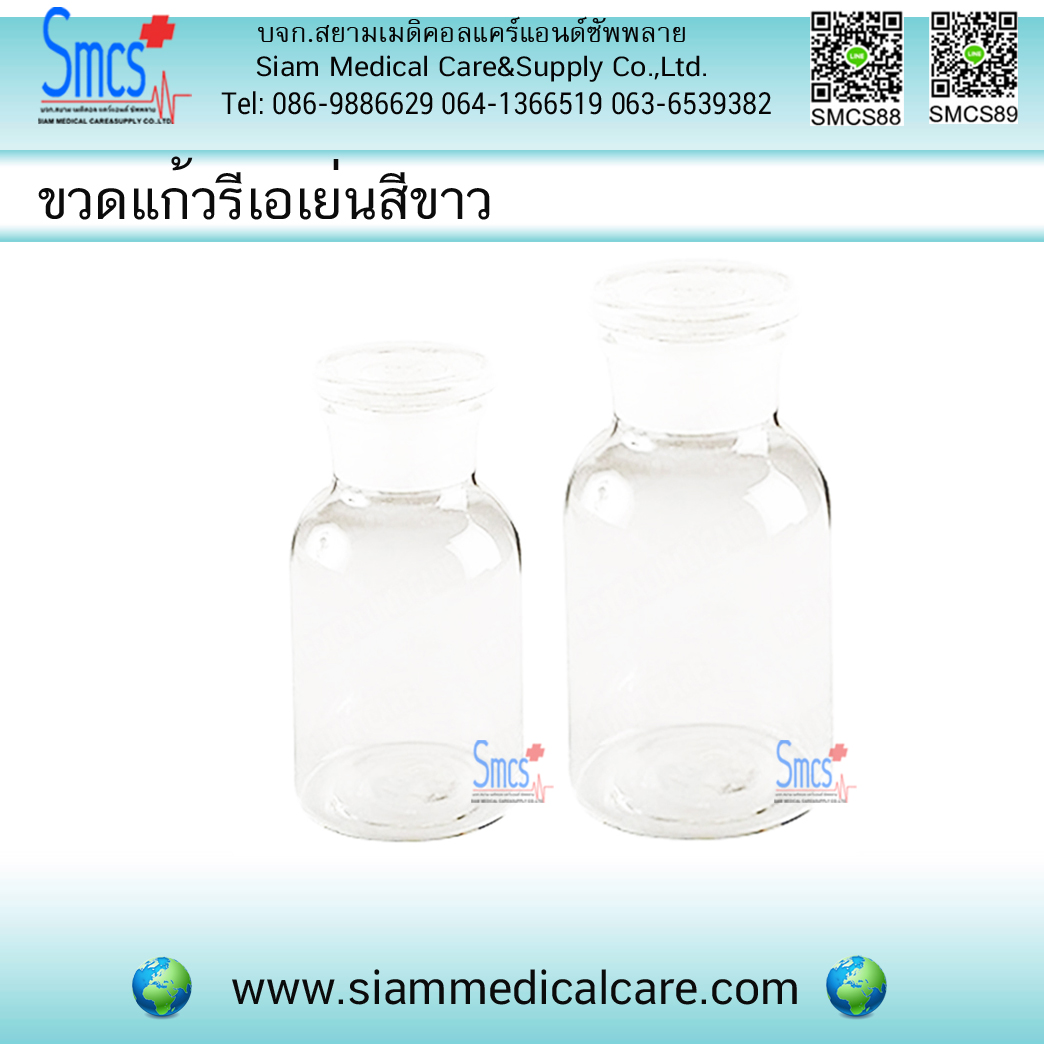glass_bottle: (558, 253, 872, 861), (264, 328, 550, 855)
